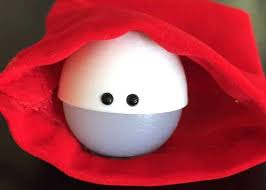mira_robot: (58, 30, 189, 158)
